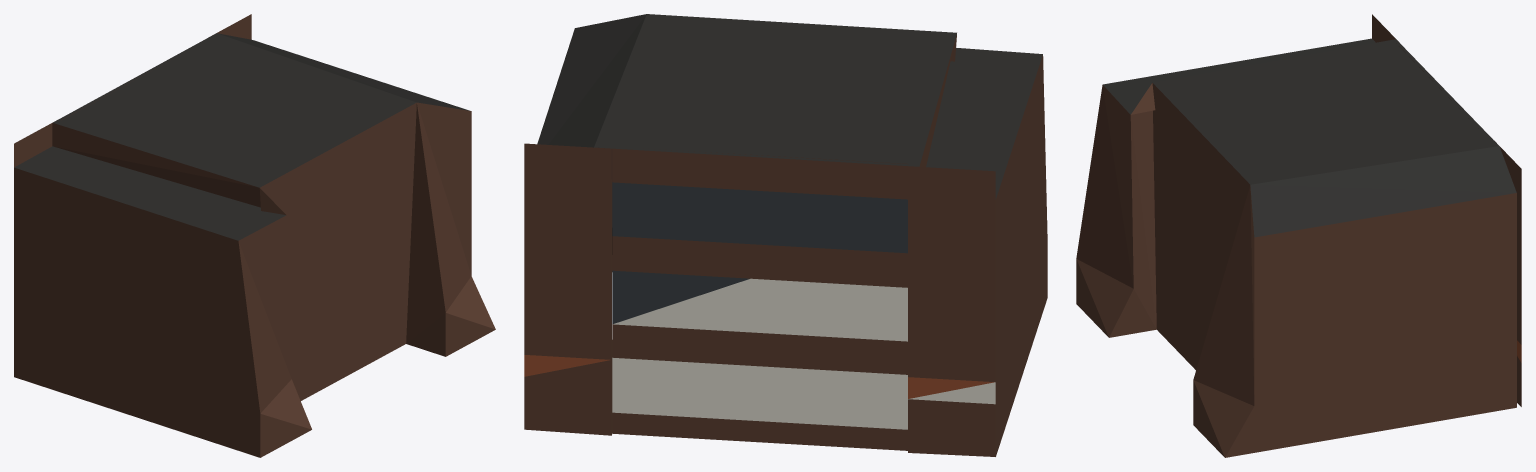
The model's file is wonderkamer-kanaalstraat.lod2.glb.
3 renders of one model, left to right at view 1: azimuth 30°, elevation 25°; view 2: azimuth 150°, elevation 25°; view 3: azimuth 270°, elevation 25°, orthographic. The views are drawn at different scales.
Parts seen in each view (by area): view 1: lod2; view 2: lod2; view 3: lod2.
Part boxes in pixels (left/top/right/bottom): lod2: left=14, top=14, right=495, bottom=457; lod2: left=524, top=14, right=1047, bottom=456; lod2: left=1076, top=14, right=1521, bottom=457.
Bounding box in the file's own units: 27.47 × 15 × 25.23.
